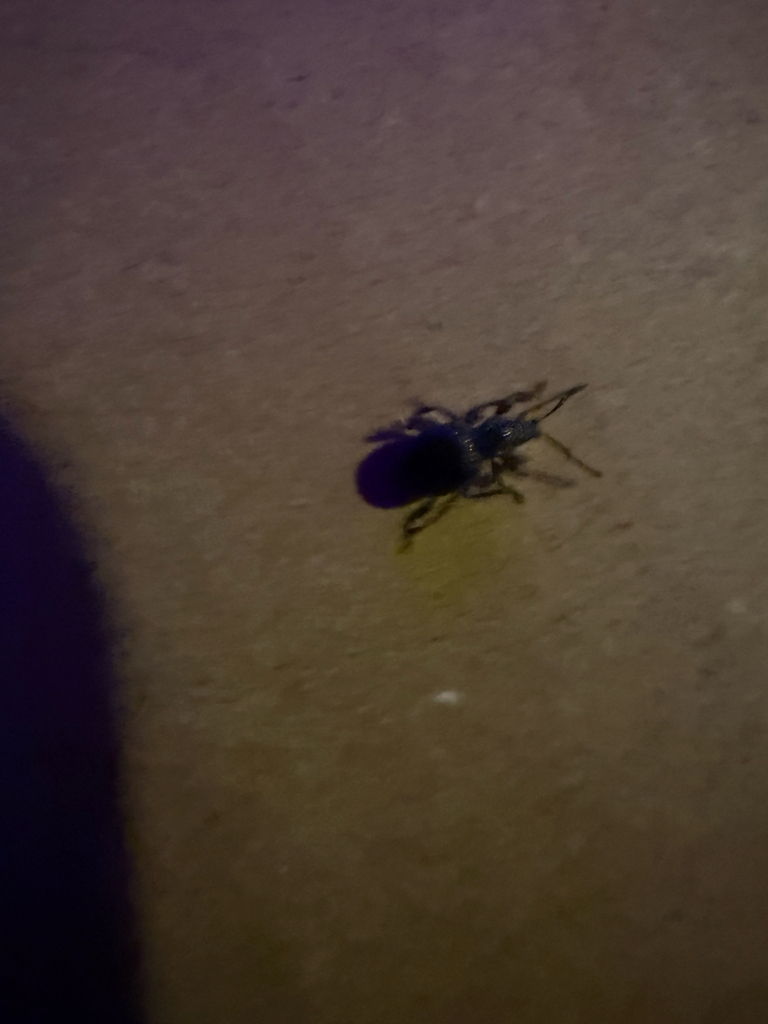weevils: (261, 309, 673, 605)
